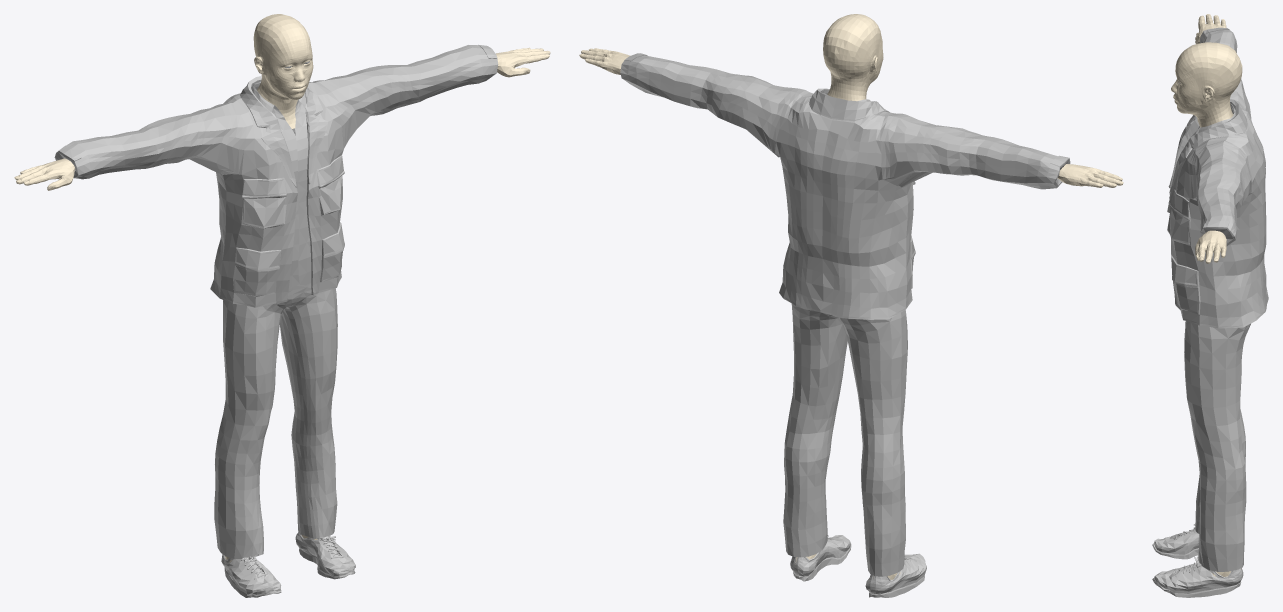
Rendered from human.obj.
The picture shows the model from 3 angles, left to right: view 1: azimuth 30°, elevation 25°; view 2: azimuth 150°, elevation 25°; view 3: azimuth 270°, elevation 25°; orthographic projection. The views are drawn at different scales.
Visible parts, largest first — view 1: male_casualsuit05.obj, base.obj, runningshoes.obj; view 2: male_casualsuit05.obj, base.obj, runningshoes.obj; view 3: male_casualsuit05.obj, base.obj, runningshoes.obj.
Part boxes in pixels (x1=…): male_casualsuit05.obj: x1=54, y1=44, x2=498, y2=558; base.obj: x1=14, y1=14, x2=550, y2=562; runningshoes.obj: x1=221, y1=532, x2=355, y2=597; male_casualsuit05.obj: x1=620, y1=53, x2=1070, y2=576; base.obj: x1=579, y1=14, x2=1123, y2=579; runningshoes.obj: x1=790, y1=535, x2=926, y2=597; male_casualsuit05.obj: x1=1167, y1=27, x2=1268, y2=571; base.obj: x1=1171, y1=14, x2=1242, y2=576; runningshoes.obj: x1=1152, y1=524, x2=1243, y2=597.
Size of the model in its own units: 192 by 191 by 38.1.
